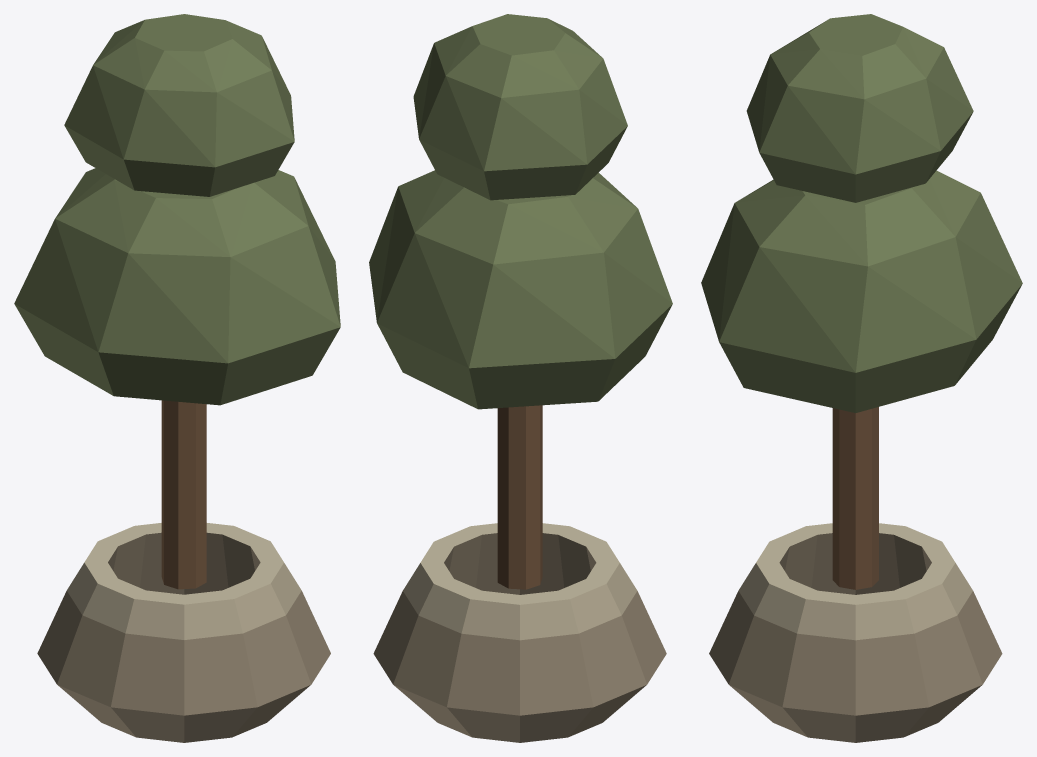
File: topiary.glb
The picture shows the model from 3 angles, left to right: view 1: azimuth 30°, elevation 25°; view 2: azimuth 150°, elevation 25°; view 3: azimuth 270°, elevation 25°; orthographic projection.
Visible parts, largest first — view 1: topiary__body; view 2: topiary__body; view 3: topiary__body.
Boxes of the visible parts, x1,y1,x2,y2 form: topiary__body: [14, 14, 340, 742]; topiary__body: [369, 14, 672, 742]; topiary__body: [701, 14, 1022, 742].
Bounding box in the file's own units: 0.8484 × 1.91 × 0.8333.
